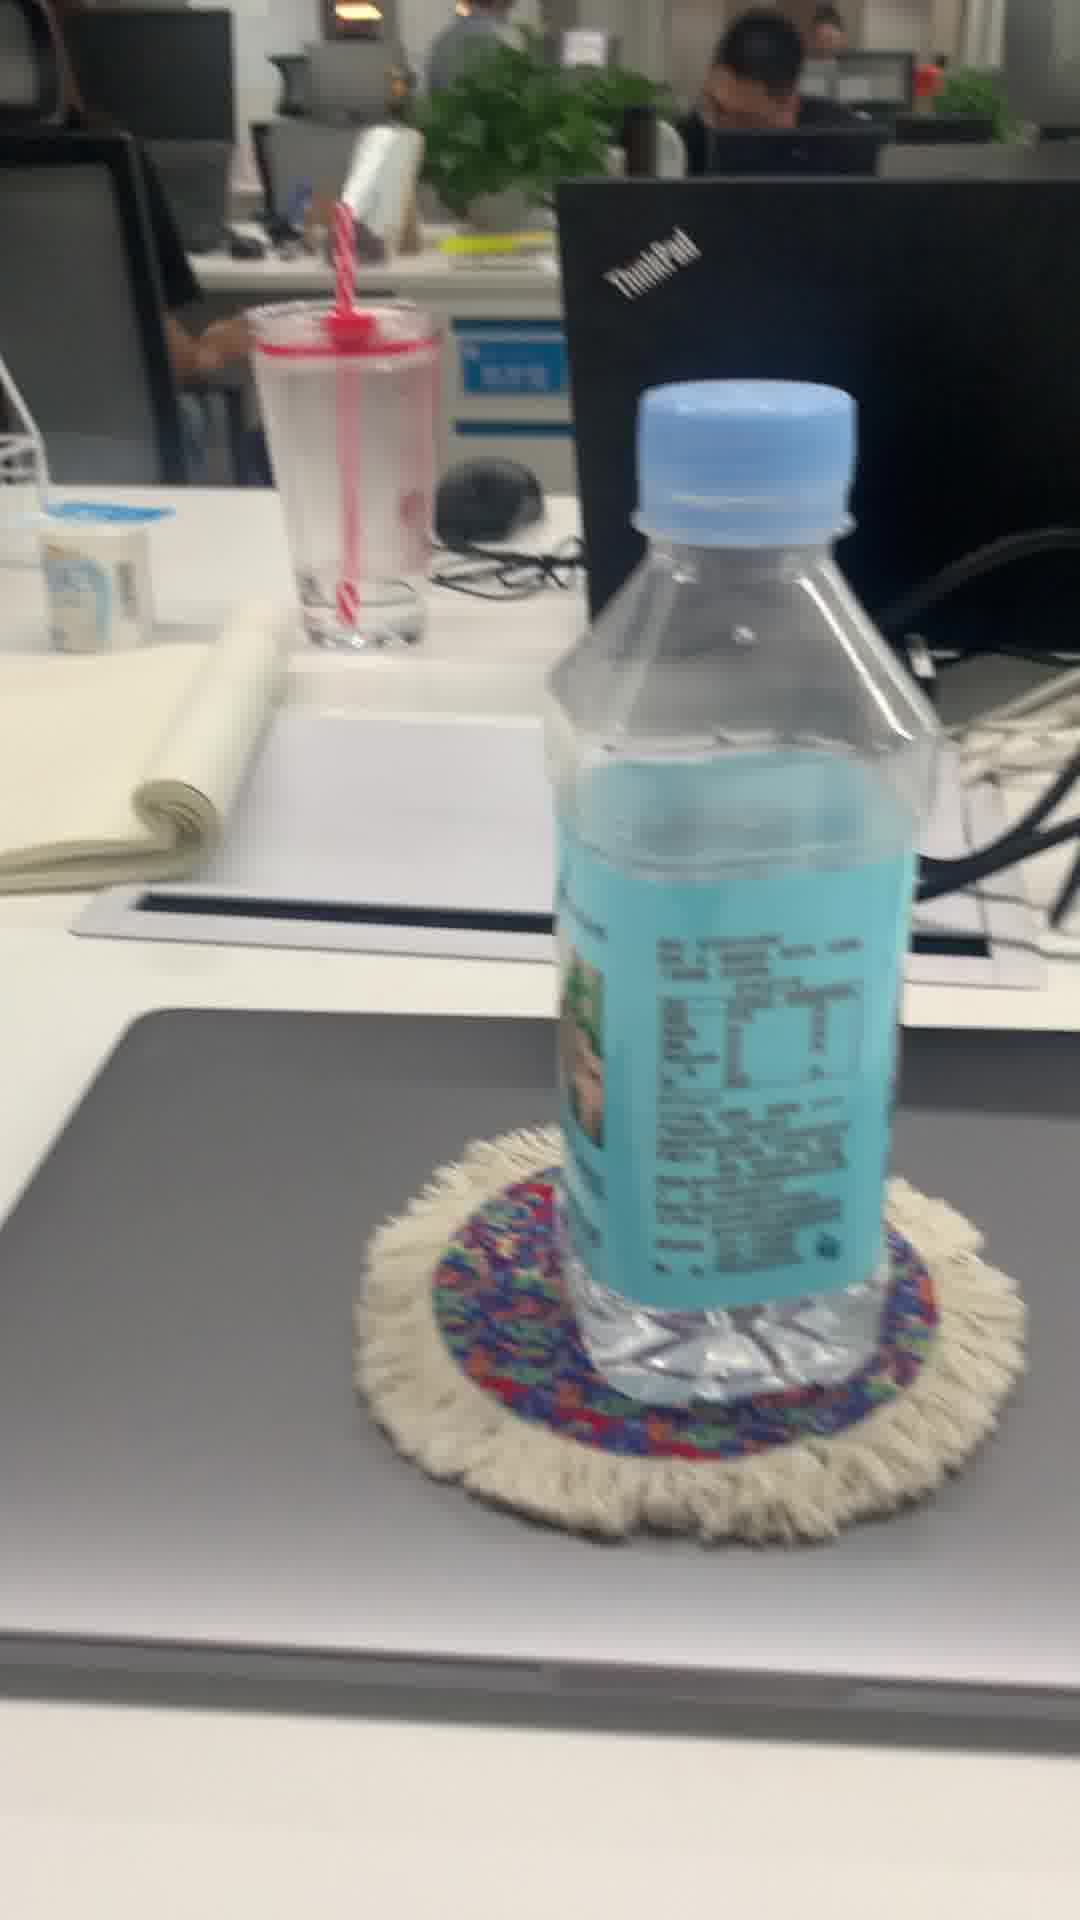水瓶: (545, 371, 938, 1412)
